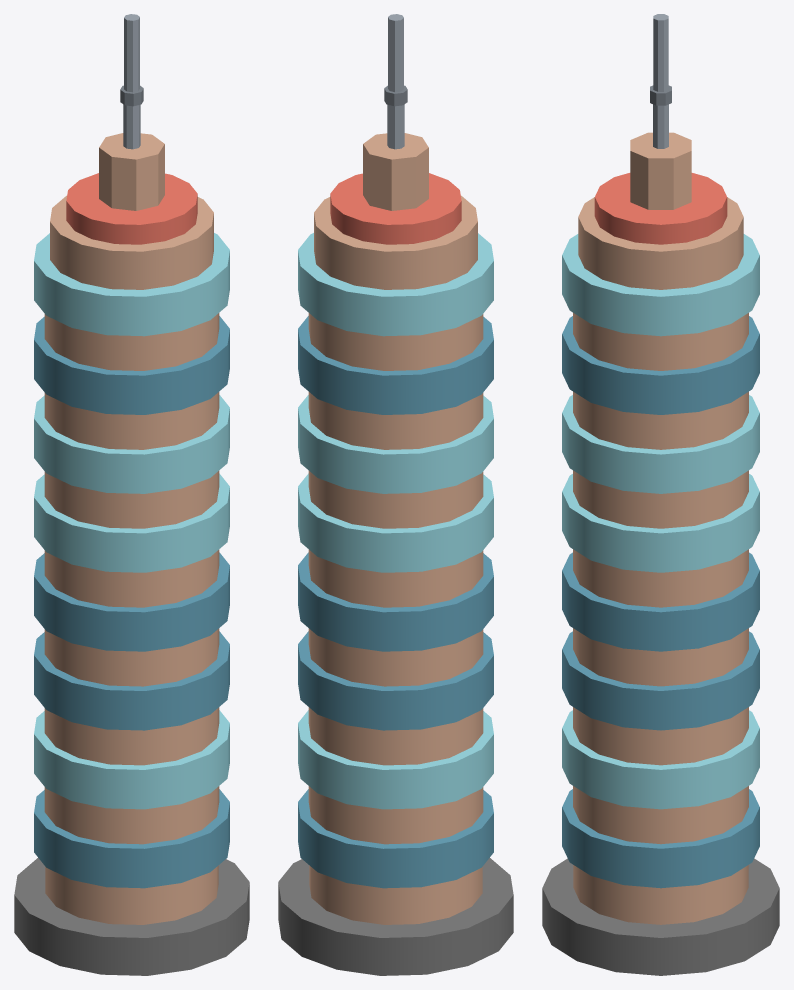
Rendered from BigHouse 3.2.fbx.
The picture shows the model from 3 angles, left to right: view 1: azimuth 30°, elevation 25°; view 2: azimuth 150°, elevation 25°; view 3: azimuth 270°, elevation 25°; orthographic projection.
Visible parts, largest first — view 1: BigHouse_Type3_2; view 2: BigHouse_Type3_2; view 3: BigHouse_Type3_2.
Boxes of the visible parts, x1=… form: BigHouse_Type3_2: x1=14, y1=14, x2=249, y2=975; BigHouse_Type3_2: x1=278, y1=14, x2=513, y2=975; BigHouse_Type3_2: x1=542, y1=14, x2=779, y2=975.
Bounding box in the file's own units: 570 × 2410 × 570.
